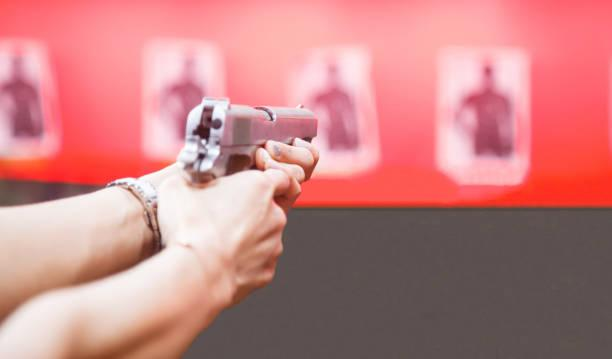weapon: (174, 94, 321, 189)
